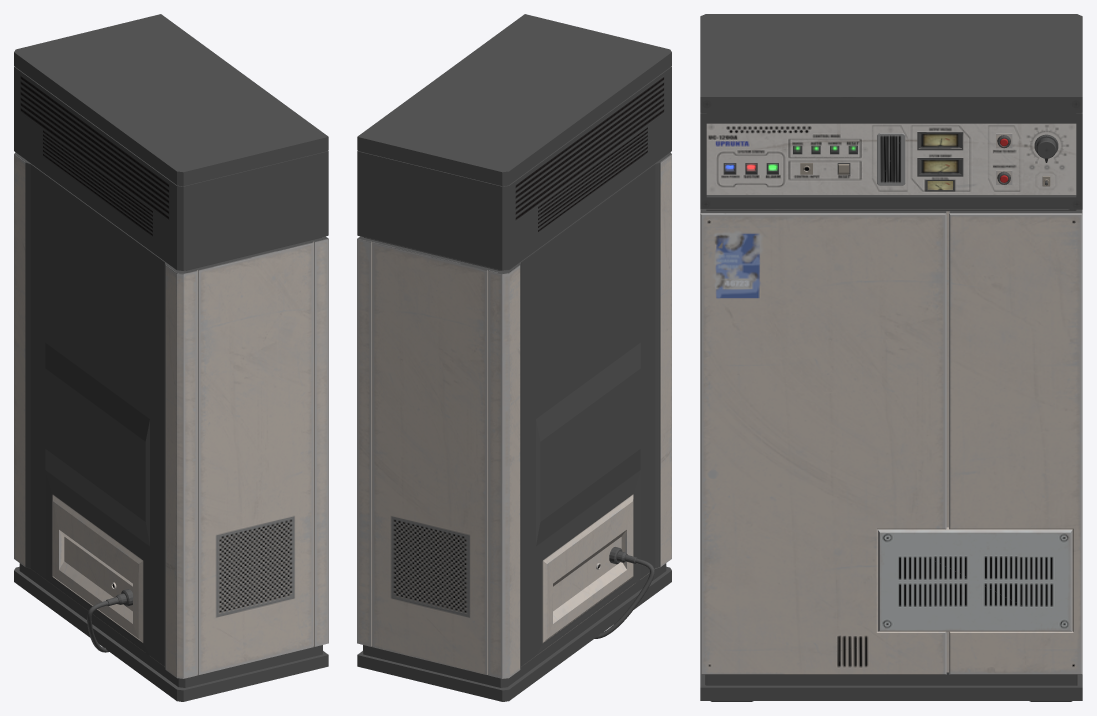
File: retro_industrial_control_cabinet.glb
3 renders of one model, left to right at view 1: azimuth 30°, elevation 25°; view 2: azimuth 150°, elevation 25°; view 3: azimuth 270°, elevation 25°, orthographic. The views are drawn at different scales.
Size of the model in its own units: 0.525 by 1.42 by 0.805.
1 material, 1 textured.
